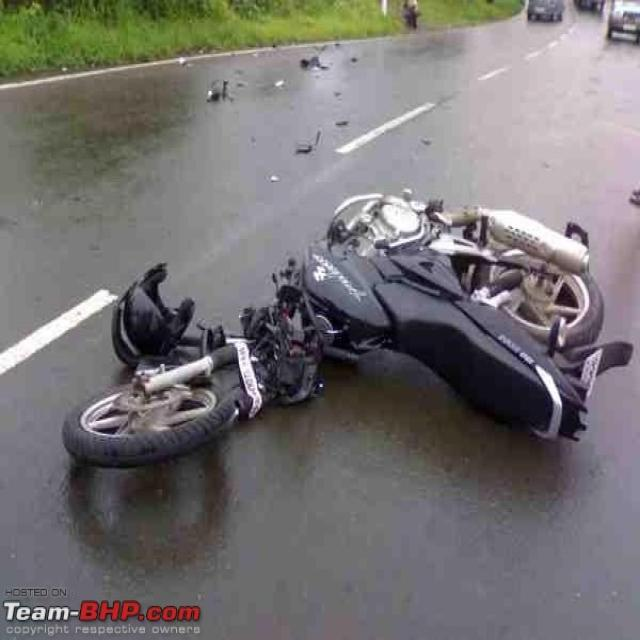accident: (62, 193, 632, 464)
